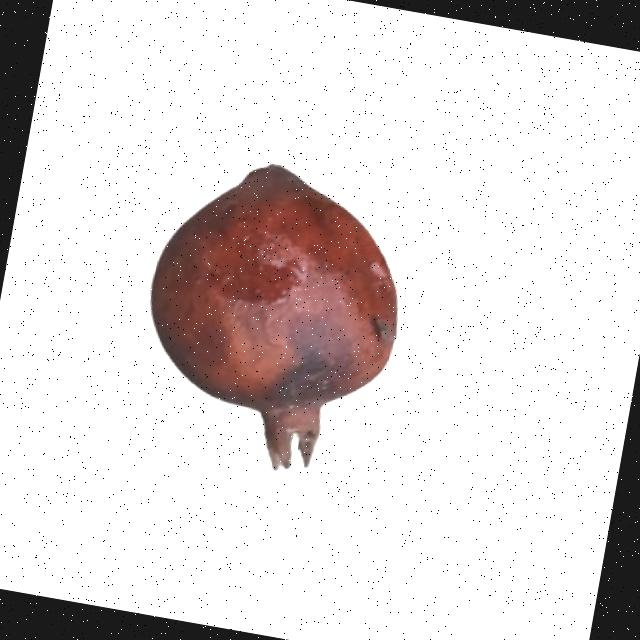Rotten: (121, 142, 424, 484)
